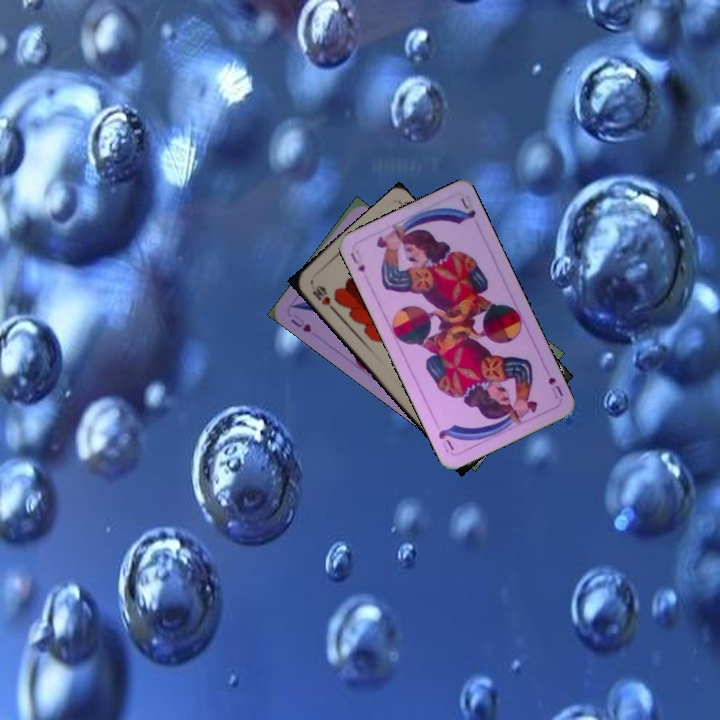H10: (308, 281, 338, 314)
HU: (287, 310, 314, 335)
SU: (540, 364, 566, 401), (346, 248, 368, 275)
